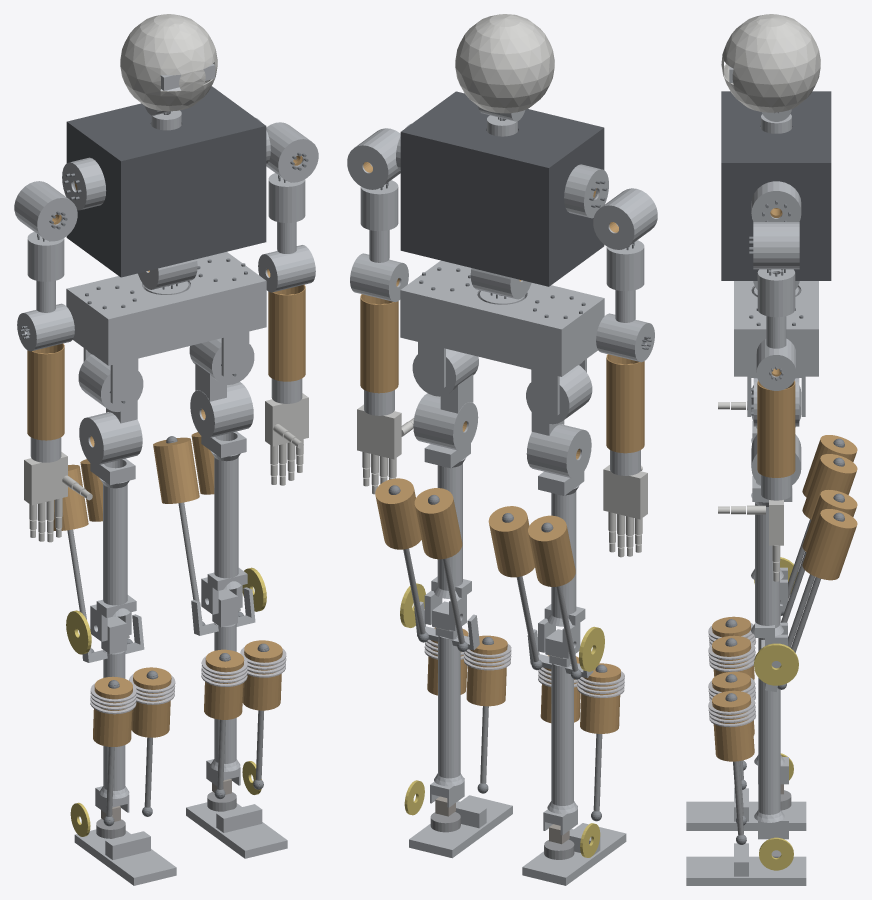
Rendered from bhl_v3.glb.
The picture shows the model from 3 angles, left to right: view 1: azimuth 30°, elevation 25°; view 2: azimuth 150°, elevation 25°; view 3: azimuth 270°, elevation 25°; orthographic projection. The views are drawn at different scales.
Visible parts, largest first — view 1: p13, p0, p153, p43, p105, p218, p282, p242, p178, p234, p86, p170 (+37 smaller); view 2: p13, p0, p153, p105, p43, p258, p194, p218, p86, p234, p170, p182 (+36 smaller); view 3: p13, p153, p0, p43, p218, p194, p187, p282, p24, p178, p206, p30 (+24 smaller).
Part boxes in pixels (<box>): p13: <box>66,86,266,277</box>; p0: <box>66,252,266,365</box>; p153: <box>120,14,217,111</box>; p43: <box>268,284,305,381</box>; p105: <box>27,343,64,440</box>; p218: <box>186,802,287,858</box>; p282: <box>74,829,176,885</box>; p242: <box>103,484,127,605</box>; p178: <box>214,457,238,578</box>; p234: <box>79,412,142,465</box>; p86: <box>14,181,77,241</box>; p170: <box>190,382,253,438</box>; p13: <box>400,91,604,286</box>; p0: <box>400,260,604,376</box>; p153: <box>455,14,554,113</box>; p105: <box>606,354,644,453</box>; p43: <box>360,294,398,393</box>; p258: <box>551,663,573,805</box>; p194: <box>438,636,460,778</box>; p218: <box>409,795,512,858</box>; p86: <box>593,188,657,249</box>; p234: <box>526,424,591,478</box>; p170: <box>413,393,478,451</box>; p182: <box>414,488,462,559</box>; p13: <box>721,91,831,280</box>; p153: <box>721,14,820,112</box>; p0: <box>734,281,818,376</box>; p43: <box>757,380,795,477</box>; p218: <box>686,843,806,885</box>; p194: <box>758,678,780,814</box>; p187: <box>802,509,857,580</box>; p282: <box>686,788,806,830</box>; p24: <box>753,222,799,269</box>; p178: <box>755,503,779,628</box>; p206: <box>712,690,754,761</box>; p30: <box>757,269,795,317</box>.
Size of the model in its own units: 0.669 by 1.83 by 0.3422.
